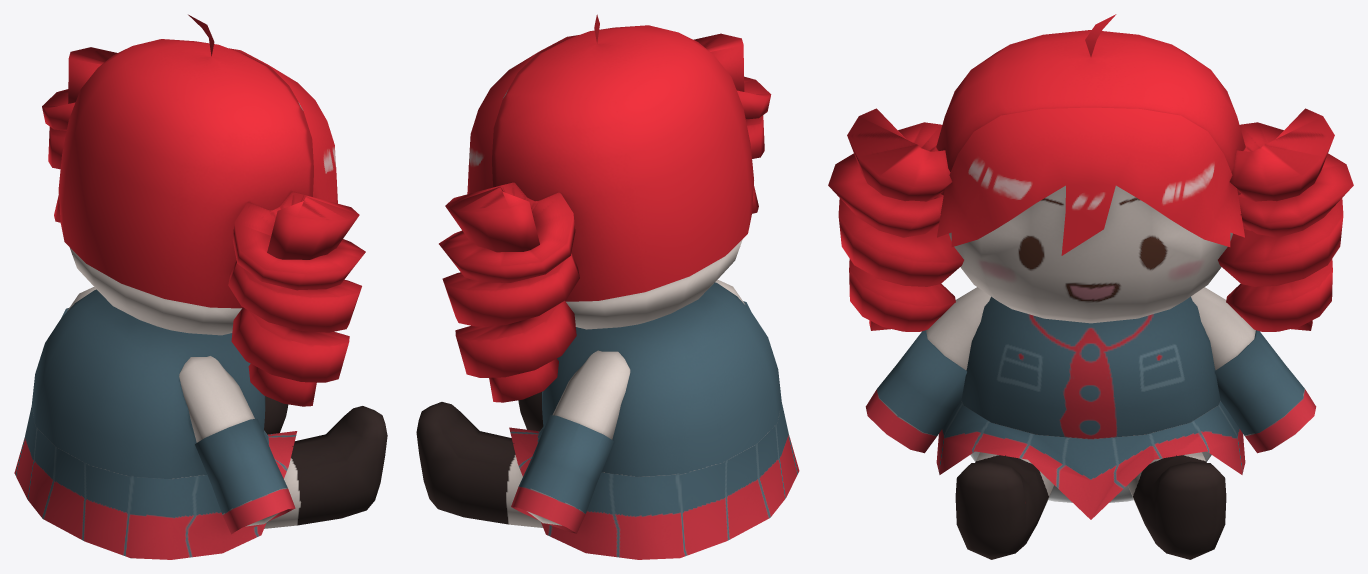
The model's file is Spiral.fbx.
3 views of the same model, side by side, from view 1: azimuth 30°, elevation 25°; view 2: azimuth 150°, elevation 25°; view 3: azimuth 270°, elevation 25° (orthographic). The views are drawn at different scales.
Visible parts, largest first — view 1: Spiral.001; view 2: Spiral.001; view 3: Spiral.001.
Boxes of the visible parts, left/top/right/bottom form: Spiral.001: left=14, top=14, right=387, bottom=559; Spiral.001: left=416, top=14, right=799, bottom=559; Spiral.001: left=828, top=14, right=1353, bottom=559.
Size of the model in its own units: 0.3229 by 0.5095 by 0.4907.
Materials: 1 (1 with a texture image).
